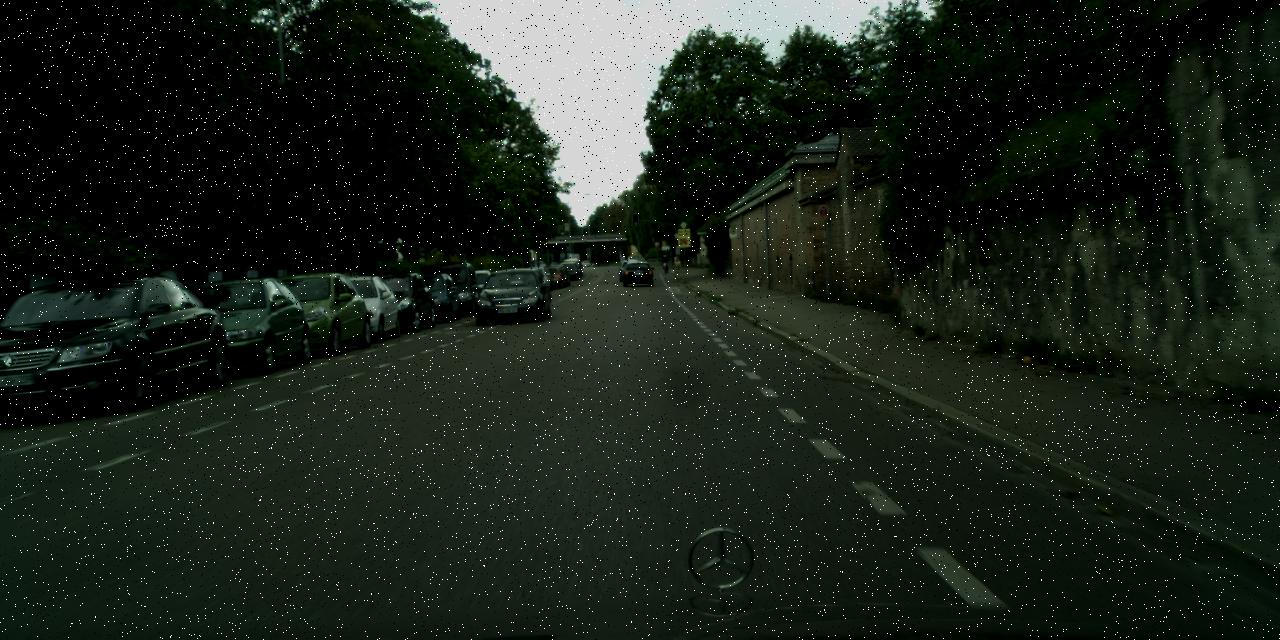ped: (662, 254, 667, 270)
